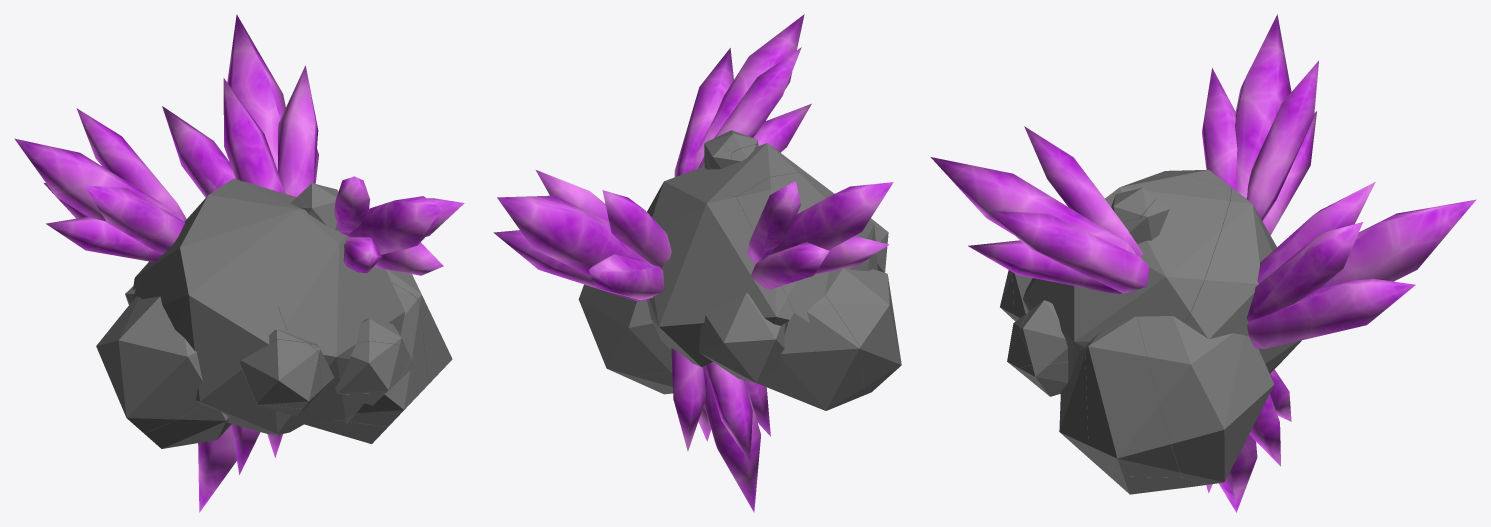
File: MagicstoneOre.fbx
3 renders of one model, left to right at view 1: azimuth 30°, elevation 25°; view 2: azimuth 150°, elevation 25°; view 3: azimuth 270°, elevation 25°, orthographic. The views are drawn at different scales.
Parts seen in each view (by area): view 1: StoneOre.026_cell.021, StoneOre.026_cell.023, StoneOre.025_cell.031, StoneOre.029_cell.031, MagicstoneParticle.069, MagicstoneParticle.082, MagicstoneParticle.080, MagicstoneParticle.079, MagicstoneParticle.071, StoneOre.024_cell.043, MagicstoneParticle.075, MagicstoneParticle.070 (+13 smaller); view 2: StoneOre.026_cell.022, StoneOre.025_cell.030, MagicstoneParticle.082, StoneOre.024_cell.045, StoneOre.025_cell.031, MagicstoneParticle.069, StoneOre.026_cell.021, StoneOre.026_cell.023, MagicstoneParticle.075, MagicstoneParticle.079, MagicstoneParticle.074, MagicstoneParticle.086 (+17 smaller); view 3: StoneOre.024_cell.045, StoneOre.026_cell.023, StoneOre.024_cell.042, StoneOre.026_cell.022, MagicstoneParticle.081, MagicstoneParticle.082, MagicstoneParticle.076, MagicstoneParticle.069, MagicstoneParticle.075, MagicstoneParticle.070, MagicstoneParticle.080, MagicstoneParticle.074 (+14 smaller).
Part boxes in pixels (x1,y1,x2,y2): StoneOre.026_cell.021: (133, 186, 308, 434); StoneOre.026_cell.023: (223, 183, 404, 421); StoneOre.025_cell.031: (97, 296, 202, 433); StoneOre.029_cell.031: (240, 339, 321, 408); MagicstoneParticle.069: (14, 138, 184, 221); MagicstoneParticle.082: (227, 14, 285, 170); MagicstoneParticle.080: (278, 65, 318, 197); MagicstoneParticle.079: (223, 78, 285, 193); MagicstoneParticle.071: (84, 185, 184, 254); StoneOre.024_cell.043: (278, 283, 428, 426); MagicstoneParticle.075: (348, 196, 441, 254); MagicstoneParticle.070: (76, 108, 186, 220); StoneOre.026_cell.022: (647, 193, 793, 367); StoneOre.025_cell.030: (757, 296, 863, 410); MagicstoneParticle.082: (497, 195, 651, 275); StoneOre.024_cell.045: (578, 284, 672, 376); StoneOre.025_cell.031: (825, 268, 901, 389); MagicstoneParticle.069: (761, 182, 893, 260); StoneOre.026_cell.021: (736, 172, 877, 322); StoneOre.026_cell.023: (647, 143, 809, 212); MagicstoneParticle.075: (692, 14, 804, 170); MagicstoneParticle.079: (602, 190, 671, 267); MagicstoneParticle.074: (690, 47, 801, 195); MagicstoneParticle.086: (703, 366, 760, 512); StoneOre.024_cell.045: (1137, 316, 1274, 484); StoneOre.026_cell.023: (1023, 174, 1231, 380); StoneOre.024_cell.042: (1085, 316, 1181, 477); StoneOre.026_cell.022: (1185, 188, 1301, 373); MagicstoneParticle.081: (1247, 278, 1415, 348); MagicstoneParticle.082: (1320, 199, 1476, 288); MagicstoneParticle.076: (987, 210, 1149, 292); MagicstoneParticle.069: (1235, 14, 1291, 198); MagicstoneParticle.075: (930, 157, 1137, 255); MagicstoneParticle.070: (1246, 60, 1318, 221); MagicstoneParticle.080: (1246, 222, 1362, 321); MagicstoneParticle.074: (1024, 126, 1142, 256).
Size of the model in its own units: 321 by 340 by 405.
